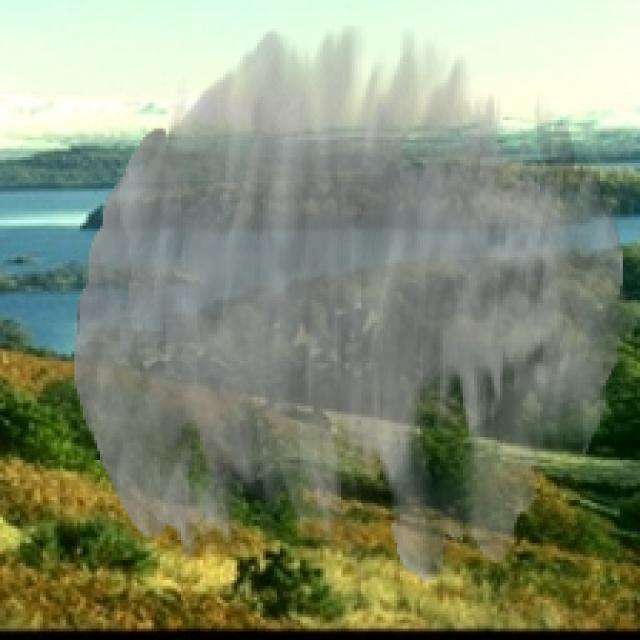Smoke: (74, 26, 626, 583)
